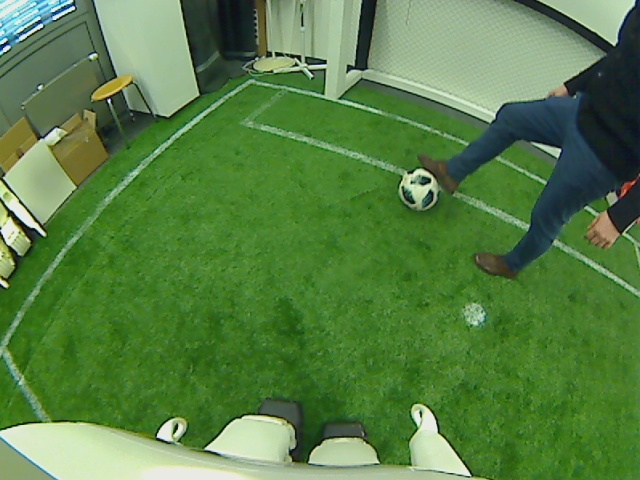ball: (397, 168, 440, 213)
